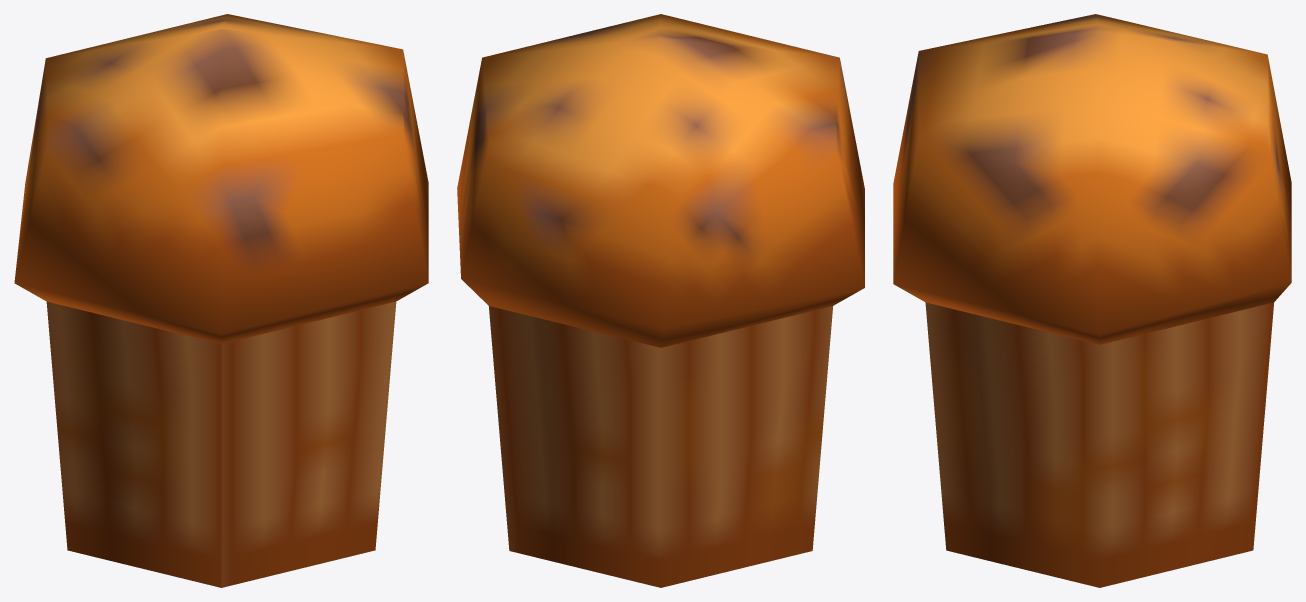
File: Pixel_Misc_S_0015.fbx
The picture shows the model from 3 angles, left to right: view 1: azimuth 30°, elevation 25°; view 2: azimuth 150°, elevation 25°; view 3: azimuth 270°, elevation 25°; orthographic projection.
Parts seen in each view (by area): view 1: Pixel_Misc_S_0015; view 2: Pixel_Misc_S_0015; view 3: Pixel_Misc_S_0015.
Part boxes in pixels (left/top/right/bottom): Pixel_Misc_S_0015: left=14, top=14, right=428, bottom=587; Pixel_Misc_S_0015: left=457, top=14, right=864, bottom=587; Pixel_Misc_S_0015: left=893, top=14, right=1291, bottom=587.
Bounding box in the file's own units: 15.61 × 17.41 × 13.04.
